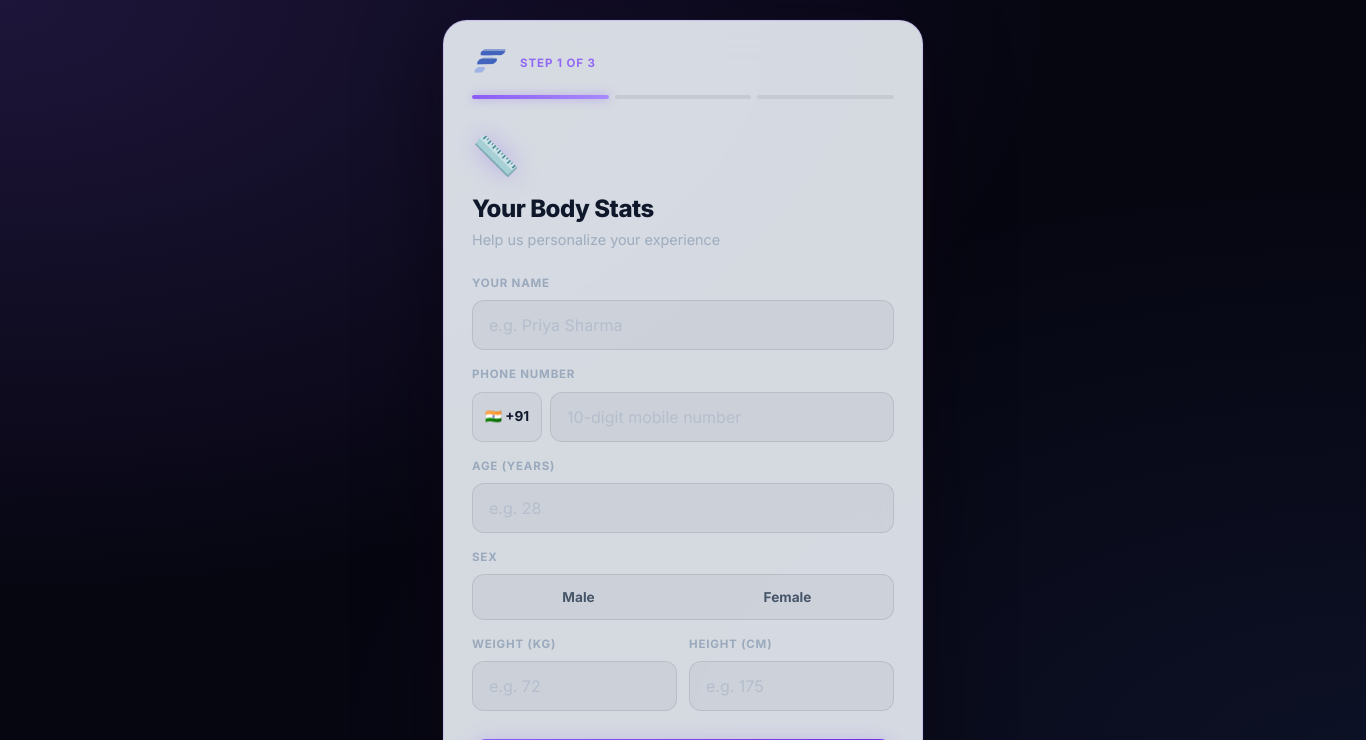
Test: ClientOnboardingWizard — goal: pick up to 2, three steps › still needs at least one goal
Type "Asha" into the field with placeholder "e.g. Priya Sharma" at coordinates (683, 325), box [472,300,894,350]
Type "9876543210" into the field with placeholder "10-digit mobile number" at coordinates (722, 416), box [550,392,894,442]
Type "29" into the number field with placeholder "e.g. 28" at coordinates (683, 508), box [472,483,894,533]
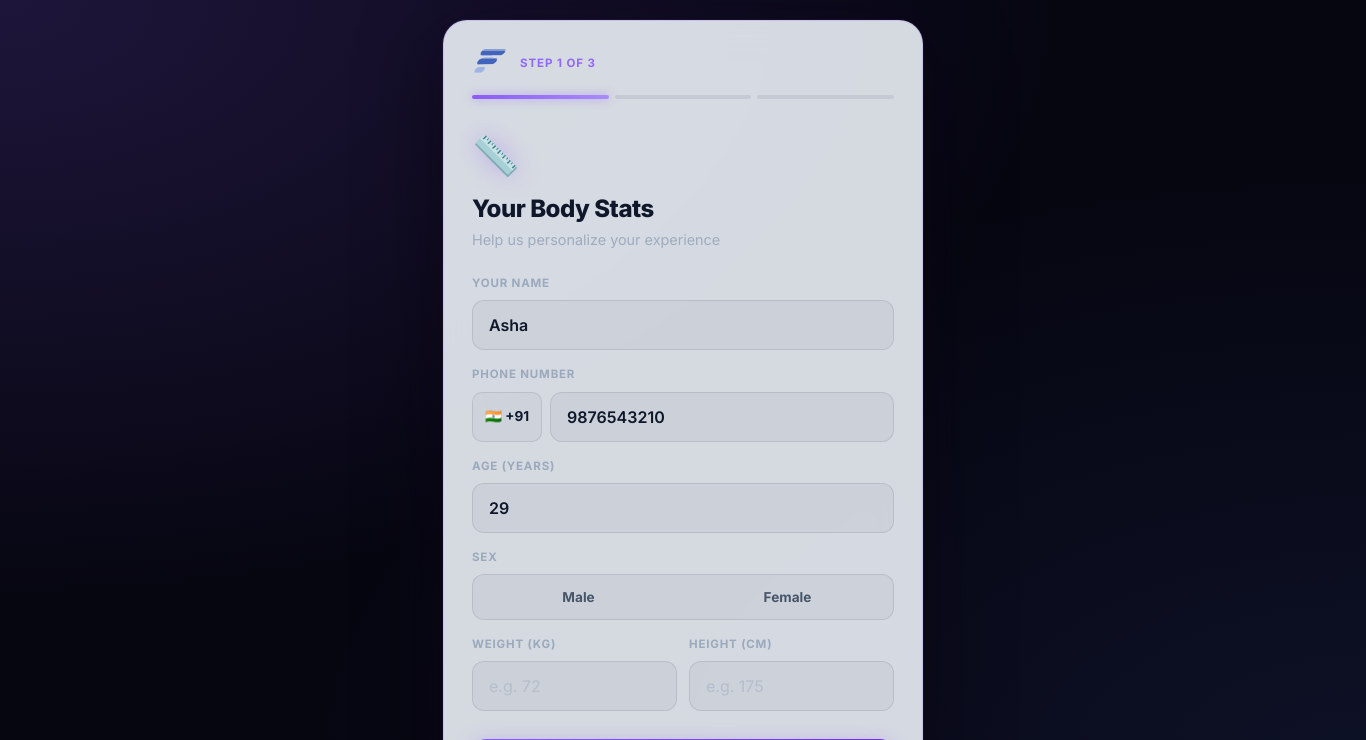
Click the radio button labelled "Female" at coordinates (788, 597), box [686,579,889,615]
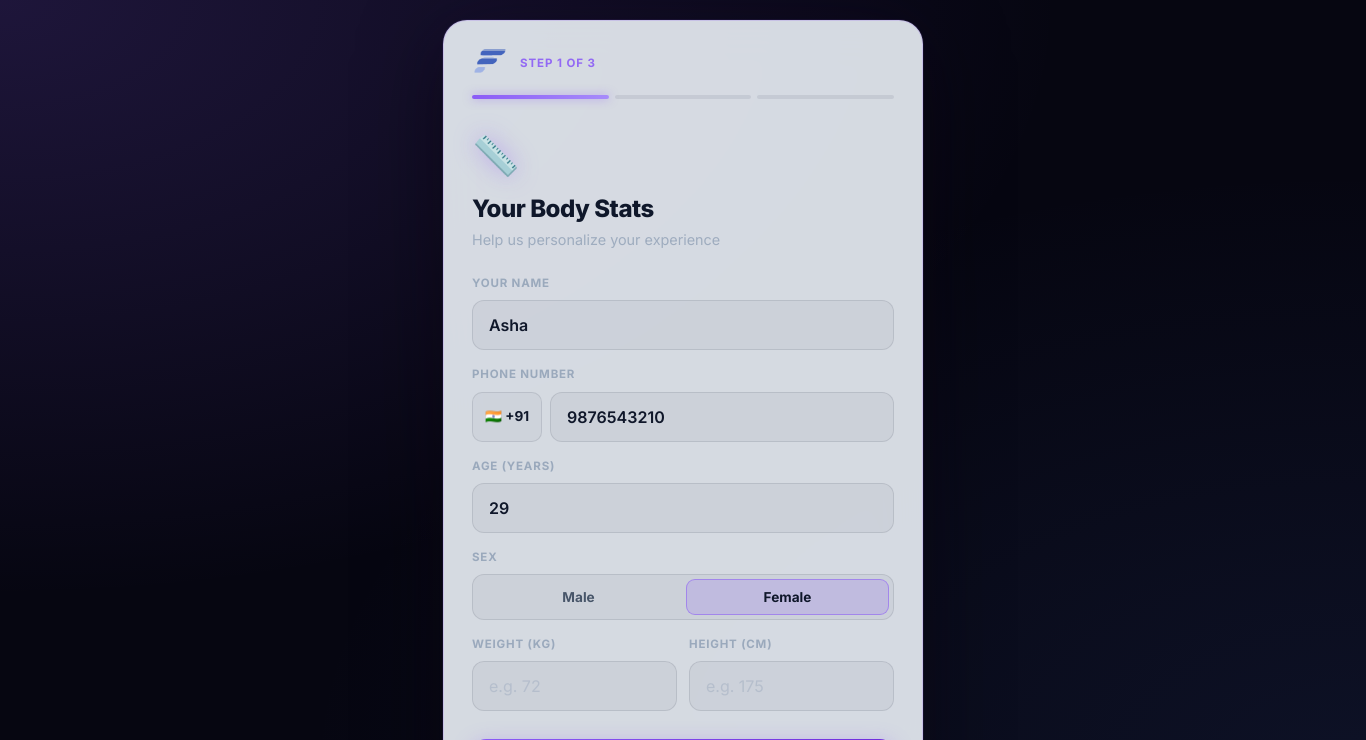
Type "72" into the number field with placeholder "e.g. 72" at coordinates (574, 686), box [472,661,677,711]
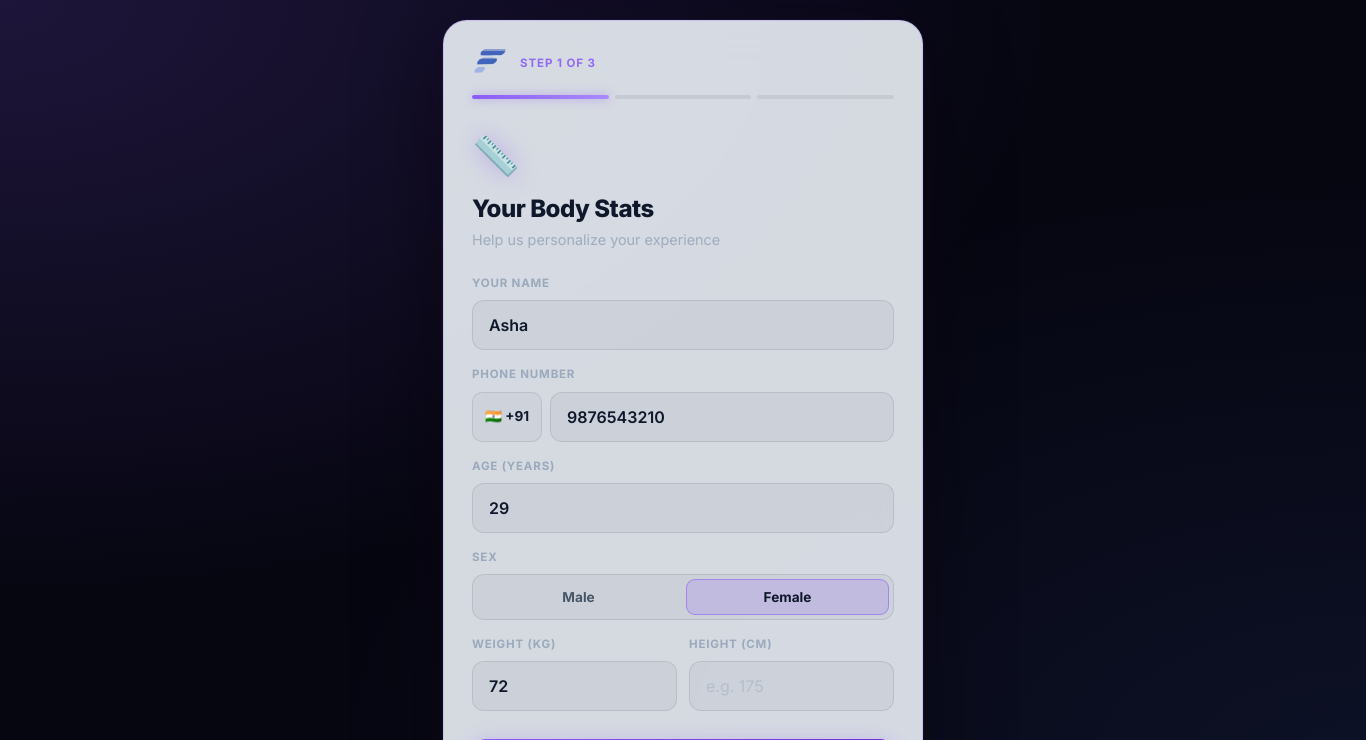
Type "175" into the number field with placeholder "e.g. 175" at coordinates (792, 686), box [689,661,894,711]
(page scrolled)
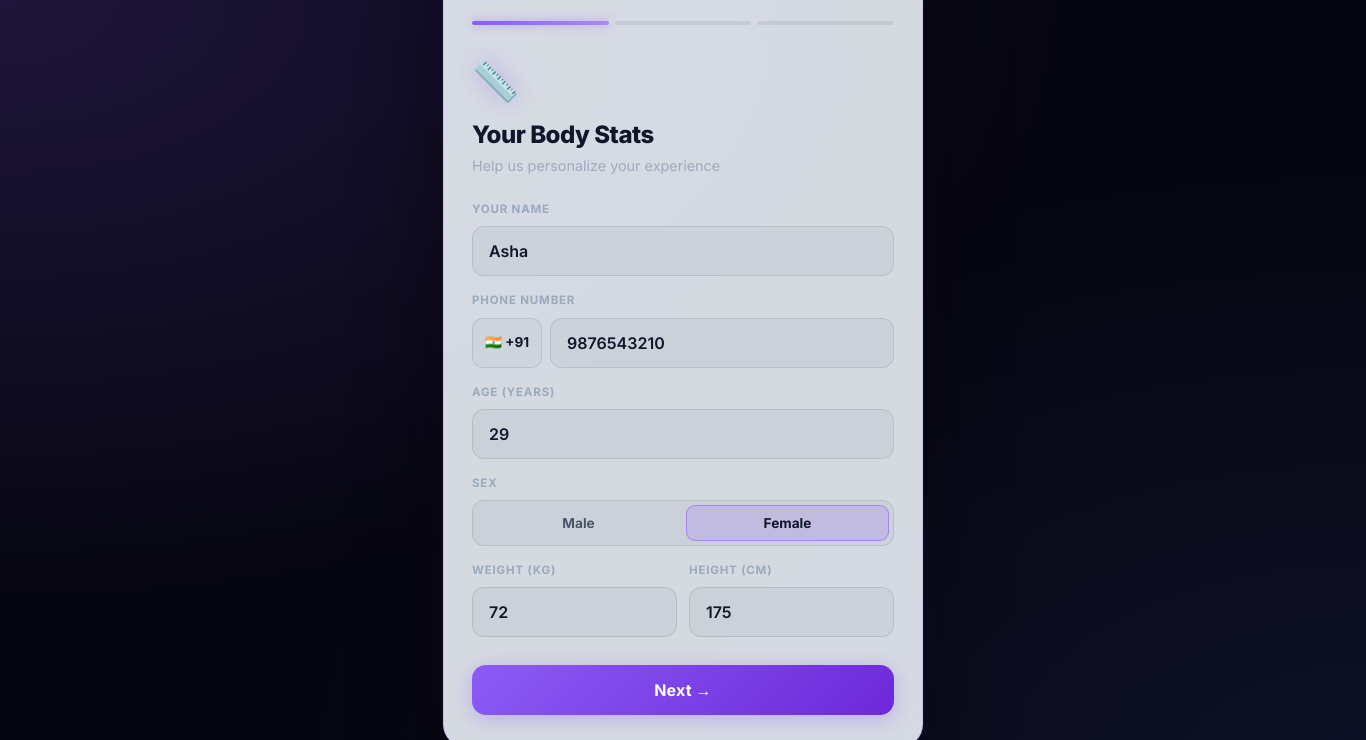
Click the button "Next →" at coordinates (683, 690), box [472,665,894,715]
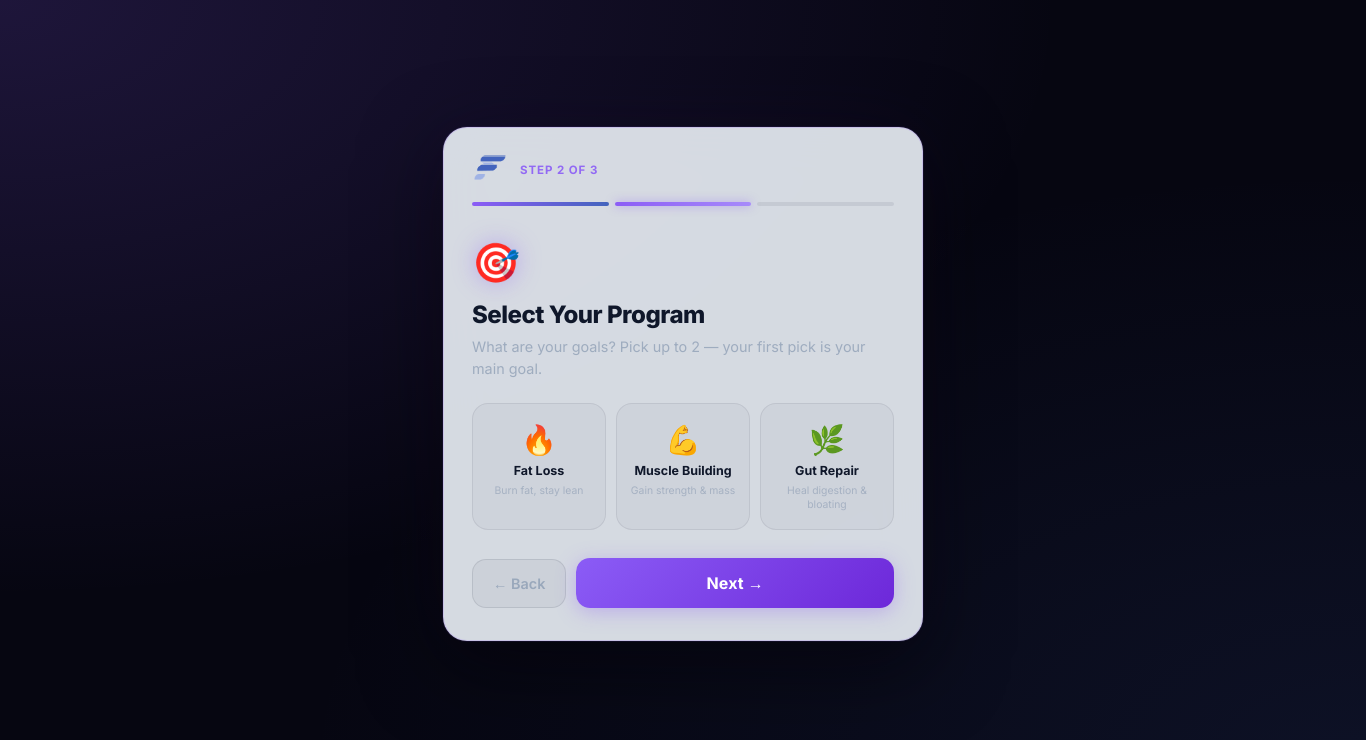
Click the button "Next →" at coordinates (735, 583), box [576,558,894,608]
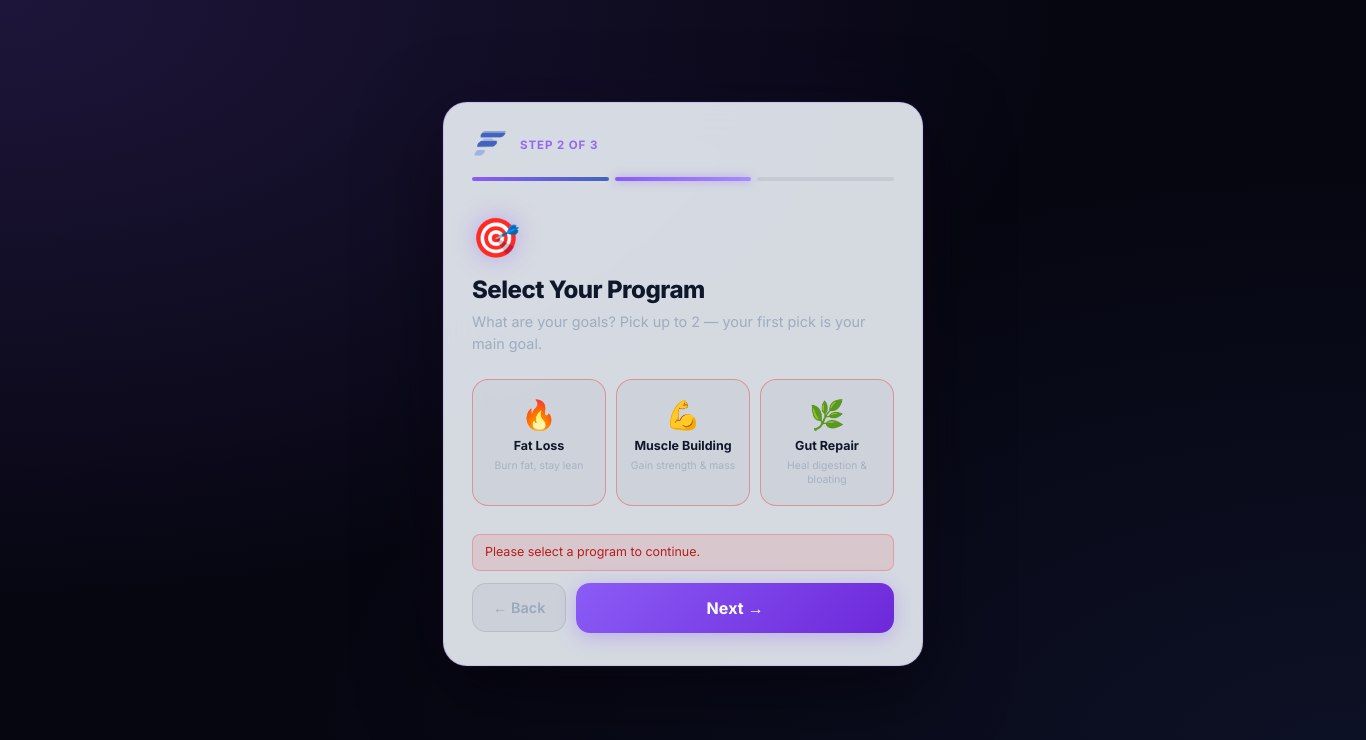
Expected: the text "Please select a program to continue." is shown, [472,534,894,571]
